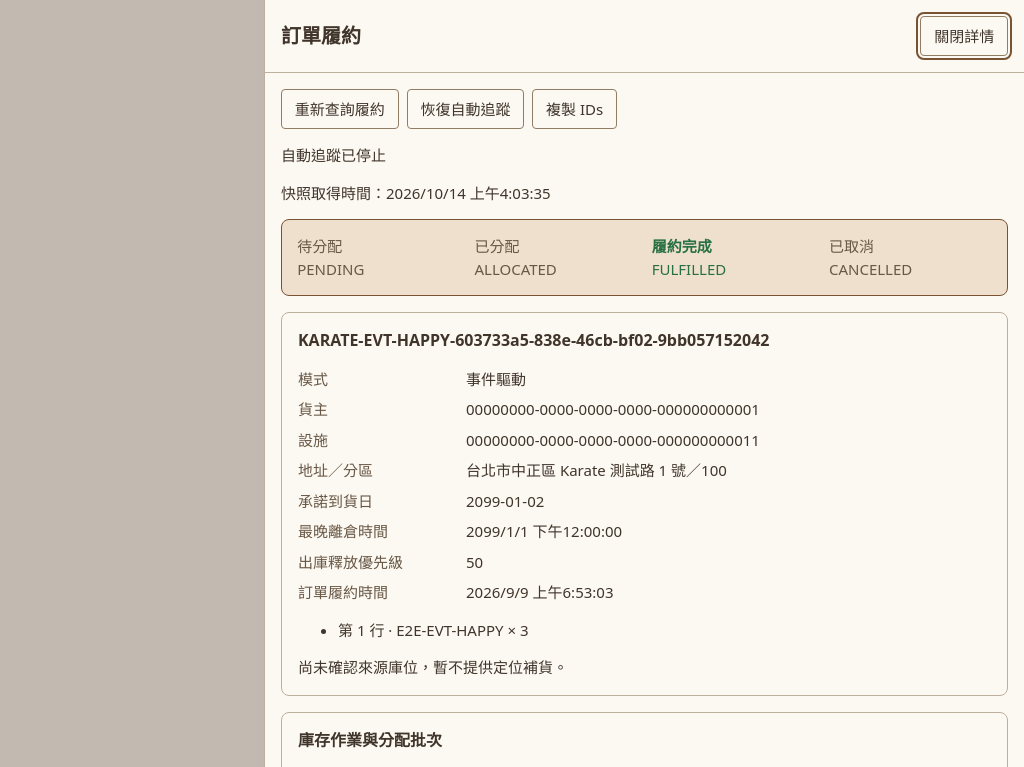
Scenario: refresh failure retains prior detail and exposes stale error
Check: the text "履約完成" is shown, box [652,236,712,256]
Step 1. Click the button "重新查詢履約" → x=340, y=109, box [281,89,399,129]
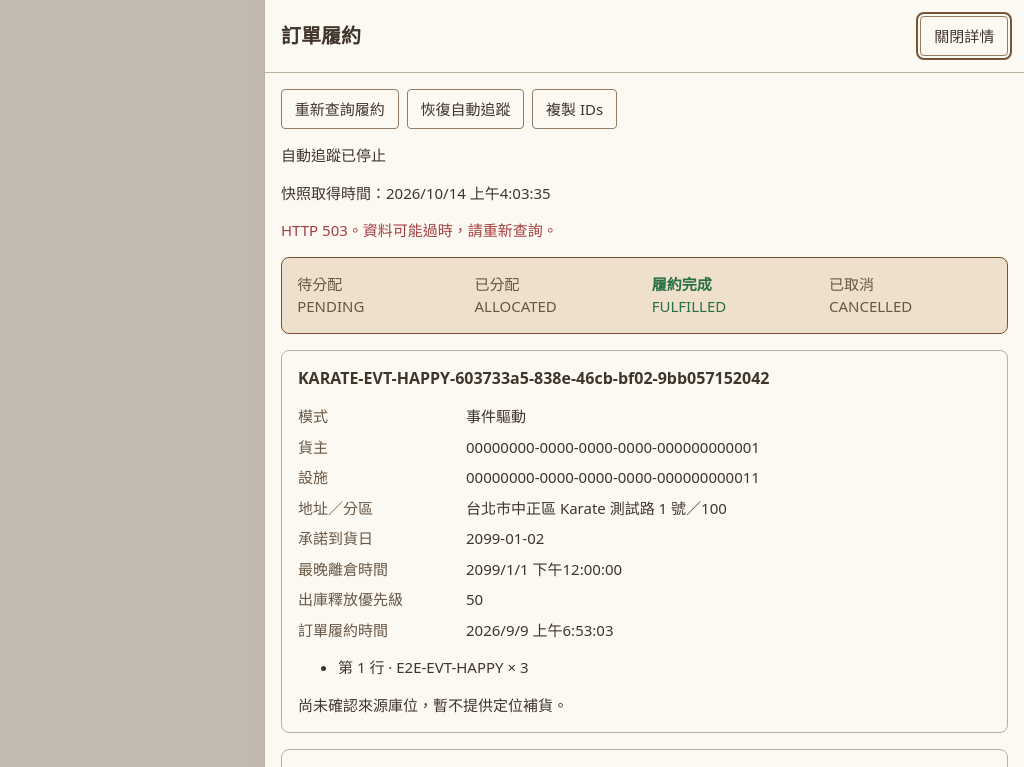
Check: the heading "KARATE-EVT-HAPPY-603733a5-838e-46cb-bf02-9bb057152042" is shown, box [298,367,770,389]
Check: the message shows "資料可能過時", box [348,220,558,240]
